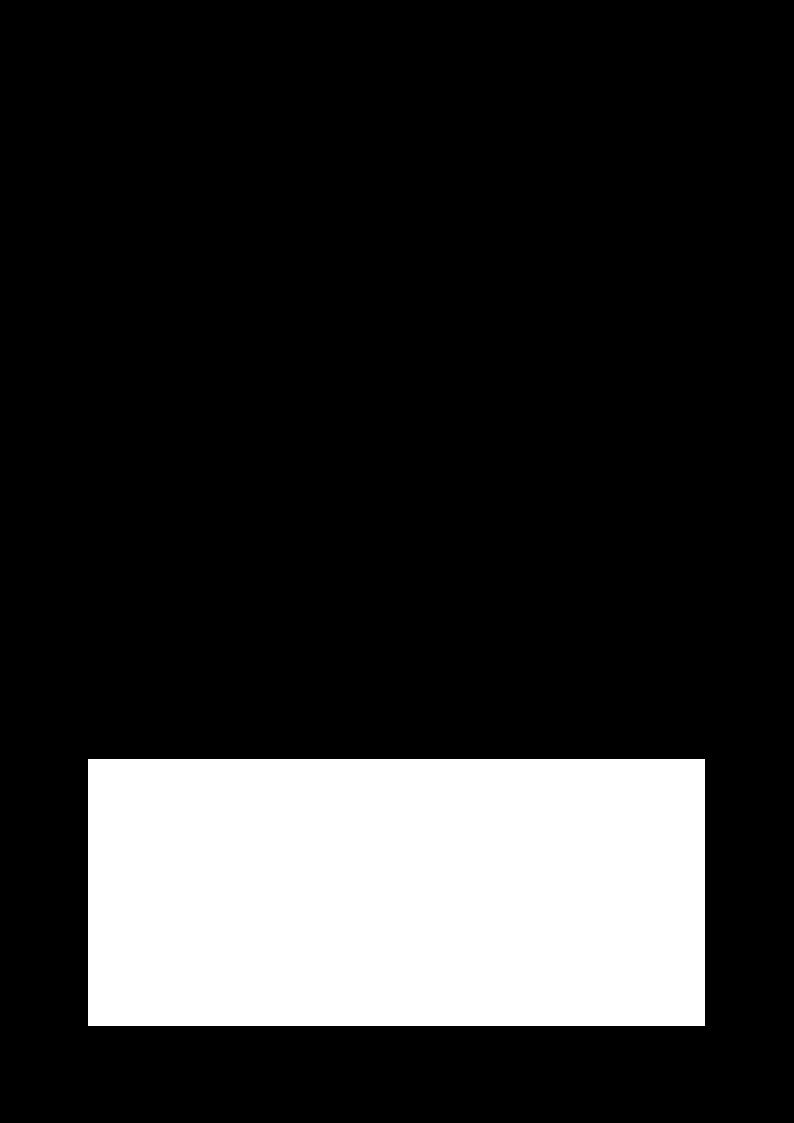table: (88, 759, 704, 1025)
